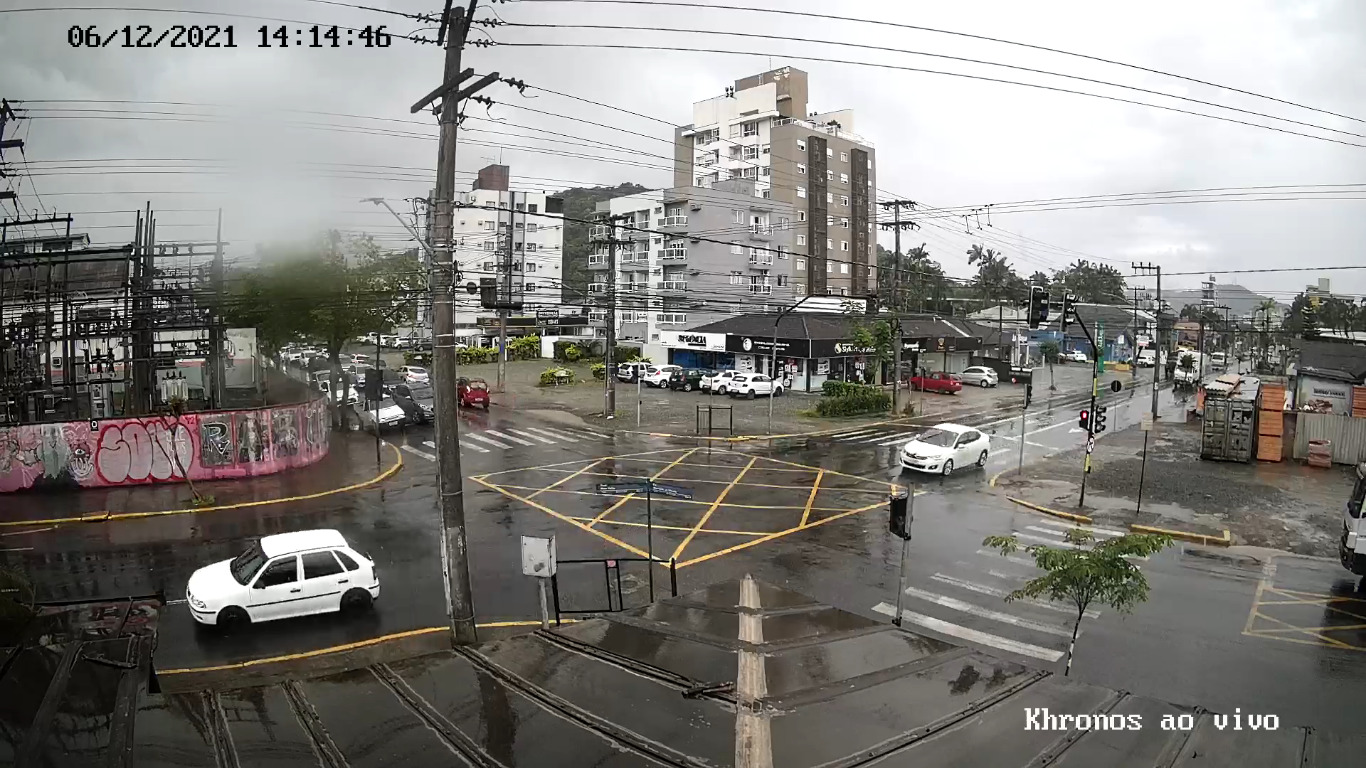car: (185, 527, 381, 637), (899, 422, 991, 476)
